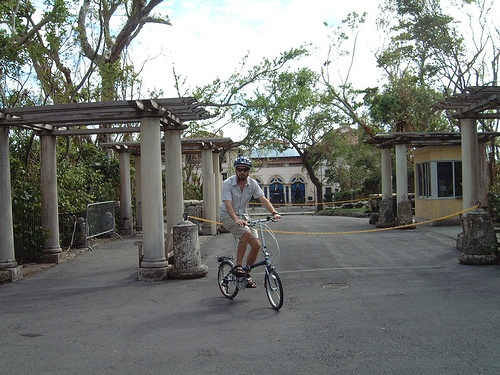head: (233, 158, 253, 181)
person: (219, 154, 280, 285)
